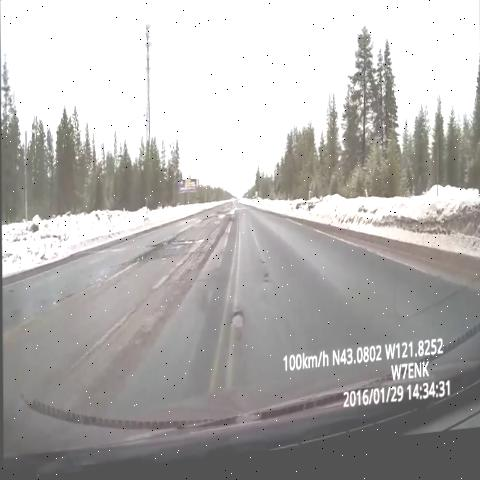pothole: (208, 206, 242, 243), (223, 315, 251, 336)
